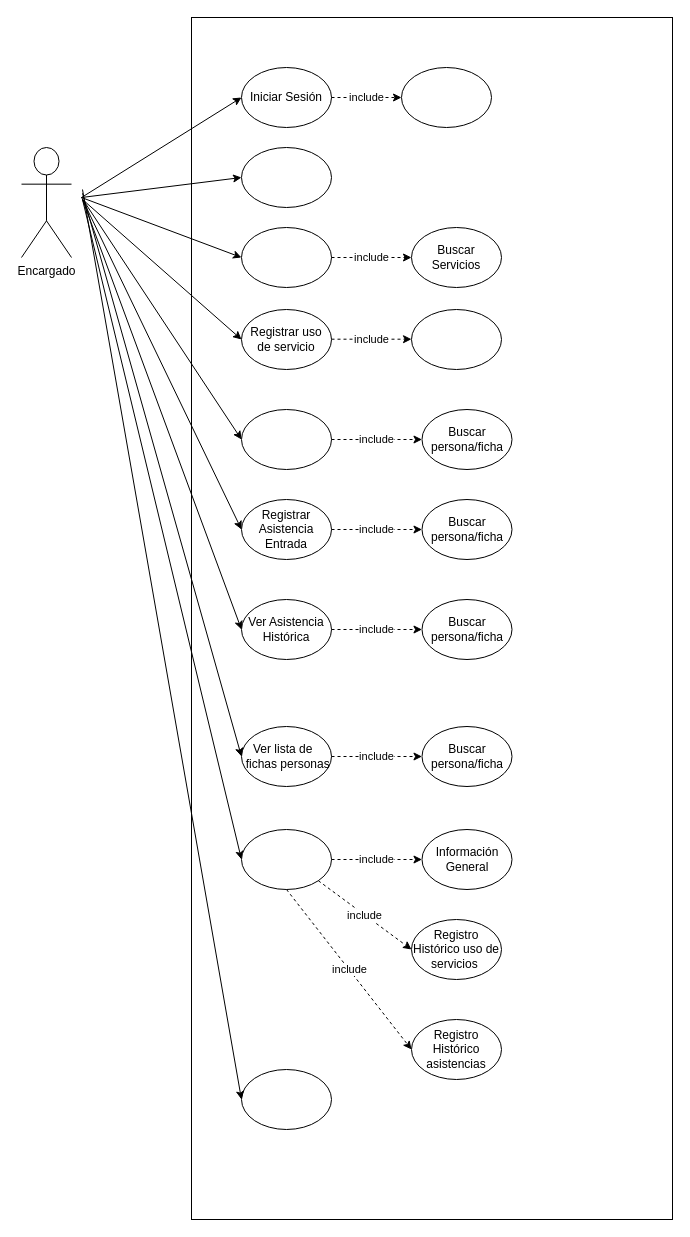
Some shapes in this 690 by 1237 pixel diagram are drawn without their labels. Each missing label, with the centre of its shape:
Generar Reportes: the point at 286,1099
Ingresar Aplicación: the point at 446,97
Registrar Asistencia Salida: the point at 286,439
Registrar Persona: the point at 286,177
Seleccionar Persona: the point at 456,339
Ver lista servicios: the point at 286,257
Ver Perfil de ficha de la persona: the point at 286,859
